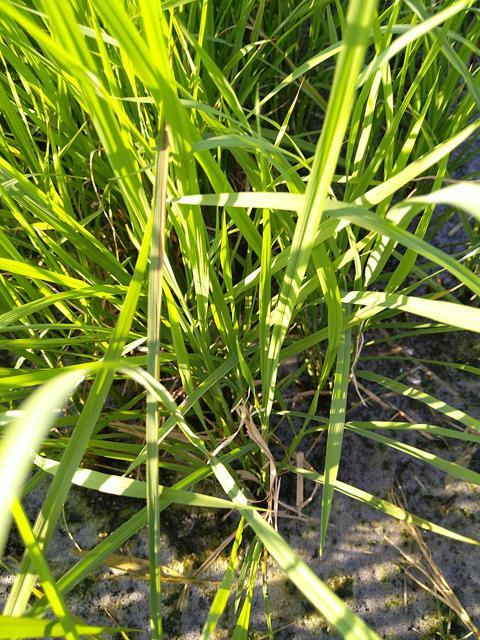Leaf Streak: (147, 127, 170, 382)
